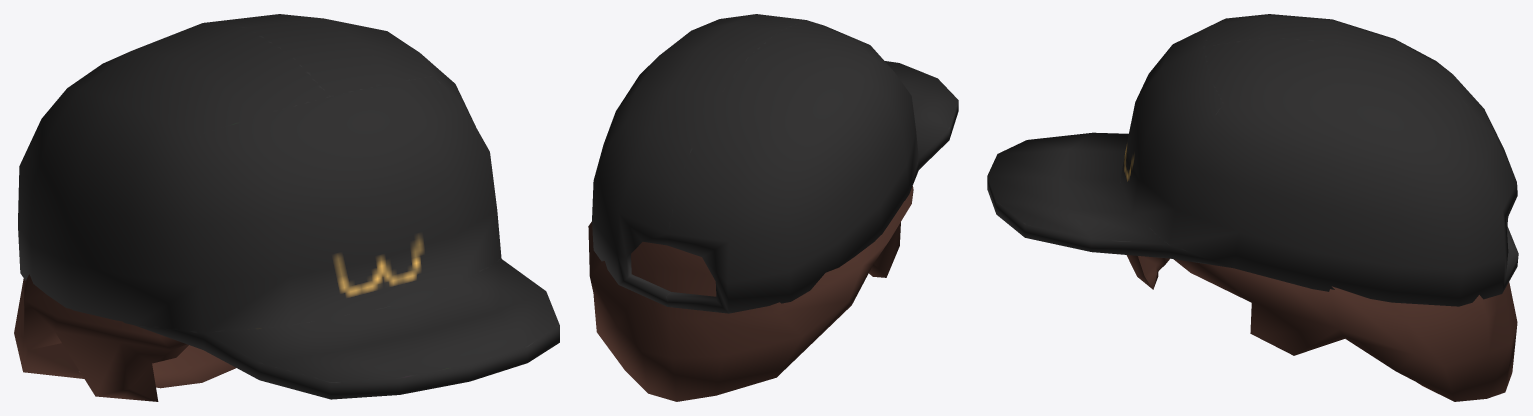
The model's file is Robber_Cap_GEO.fbx.
The picture shows the model from 3 angles, left to right: view 1: azimuth 30°, elevation 25°; view 2: azimuth 150°, elevation 25°; view 3: azimuth 270°, elevation 25°; orthographic projection. The views are drawn at different scales.
Parts seen in each view (by area): view 1: Cap_GEO; view 2: Cap_GEO; view 3: Cap_GEO.
Boxes of the visible parts, bbox=[...] form: Cap_GEO: bbox=[14, 14, 559, 401]; Cap_GEO: bbox=[588, 14, 958, 401]; Cap_GEO: bbox=[987, 14, 1518, 401].
Size of the model in its own units: 174 by 185 by 262.
